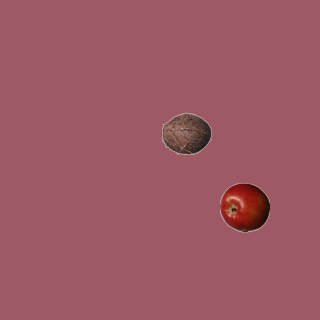Apple Braeburn: (219, 182, 269, 232)
Cocos: (161, 108, 211, 158)
